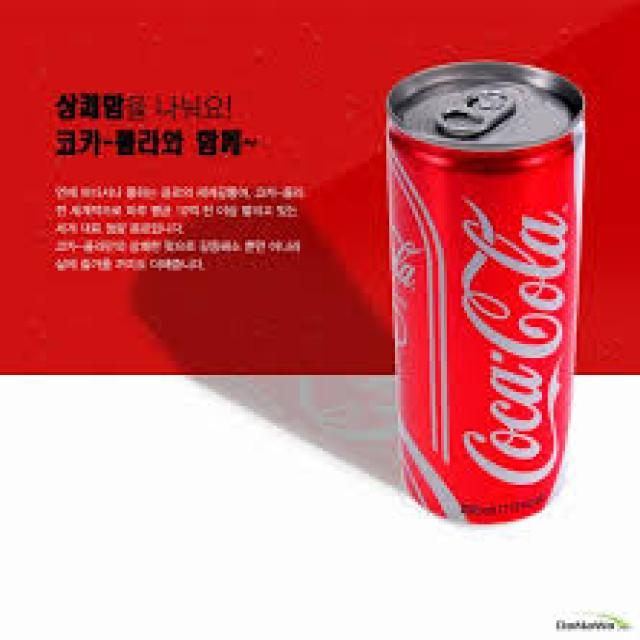Coca-Cola: (372, 59, 584, 530)
